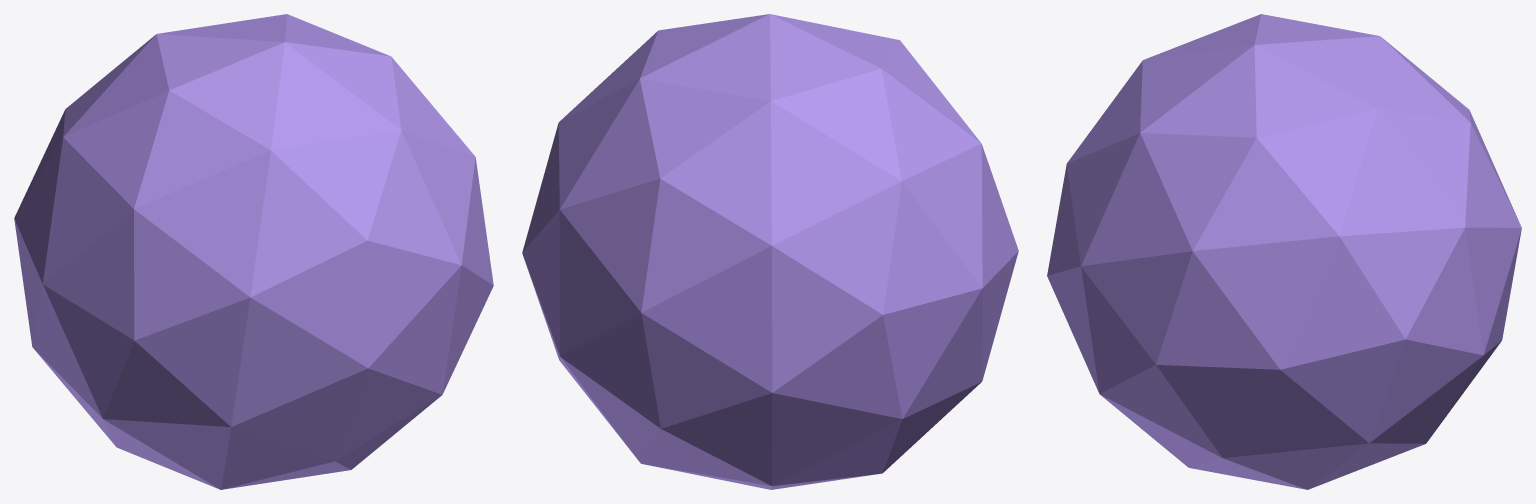
File: CSharpBall.glb
3 views of the same model, side by side, from view 1: azimuth 30°, elevation 25°; view 2: azimuth 150°, elevation 25°; view 3: azimuth 270°, elevation 25° (orthographic). The views are drawn at different scales.
Visible parts, largest first — view 1: Icosphere, Icosphere.001; view 2: Icosphere, Icosphere.001; view 3: Icosphere.001, Icosphere.
Boxes of the visible parts, bbox=[...] form: Icosphere: bbox=[14, 90, 493, 489]; Icosphere.001: bbox=[63, 14, 475, 156]; Icosphere: bbox=[522, 40, 1018, 489]; Icosphere.001: bbox=[522, 14, 901, 356]; Icosphere.001: bbox=[1140, 14, 1521, 369]; Icosphere: bbox=[1047, 60, 1521, 489].
Bounding box in the file's own units: 1.99 × 1.98 × 1.98.
